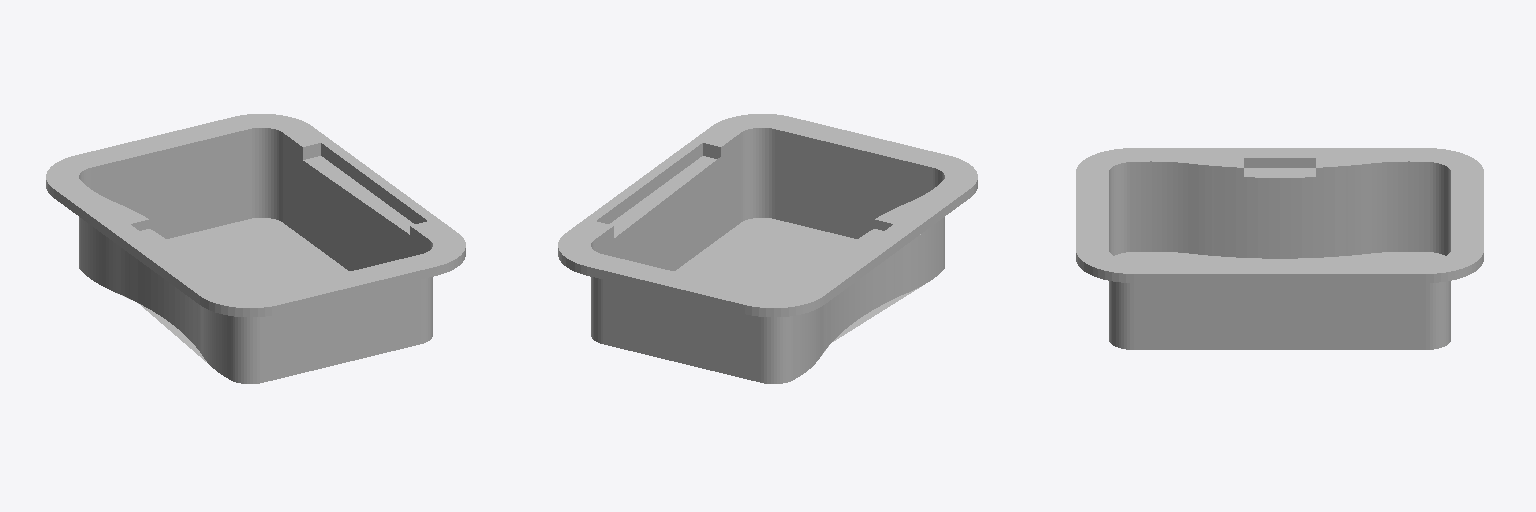
The model's file is BRAHAMA_BLANCA.obj.
The picture shows the model from 3 angles: view 1: azimuth 30°, elevation 25°; view 2: azimuth 150°, elevation 25°; view 3: azimuth 270°, elevation 25°; orthographic projection.
Visible parts, largest first — view 1: Mesh1 Group1 Model; view 2: Mesh1 Group1 Model; view 3: Mesh1 Group1 Model.
Boxes of the visible parts, x1,y1,x2,y2 form: Mesh1 Group1 Model: [46, 114, 465, 383]; Mesh1 Group1 Model: [558, 114, 977, 383]; Mesh1 Group1 Model: [1076, 148, 1483, 349].
Bounding box in the file's own units: 135 × 45 × 185.